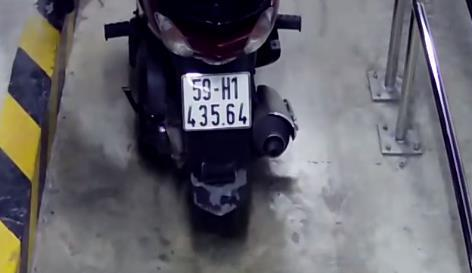lisence: (180, 69, 253, 131)
